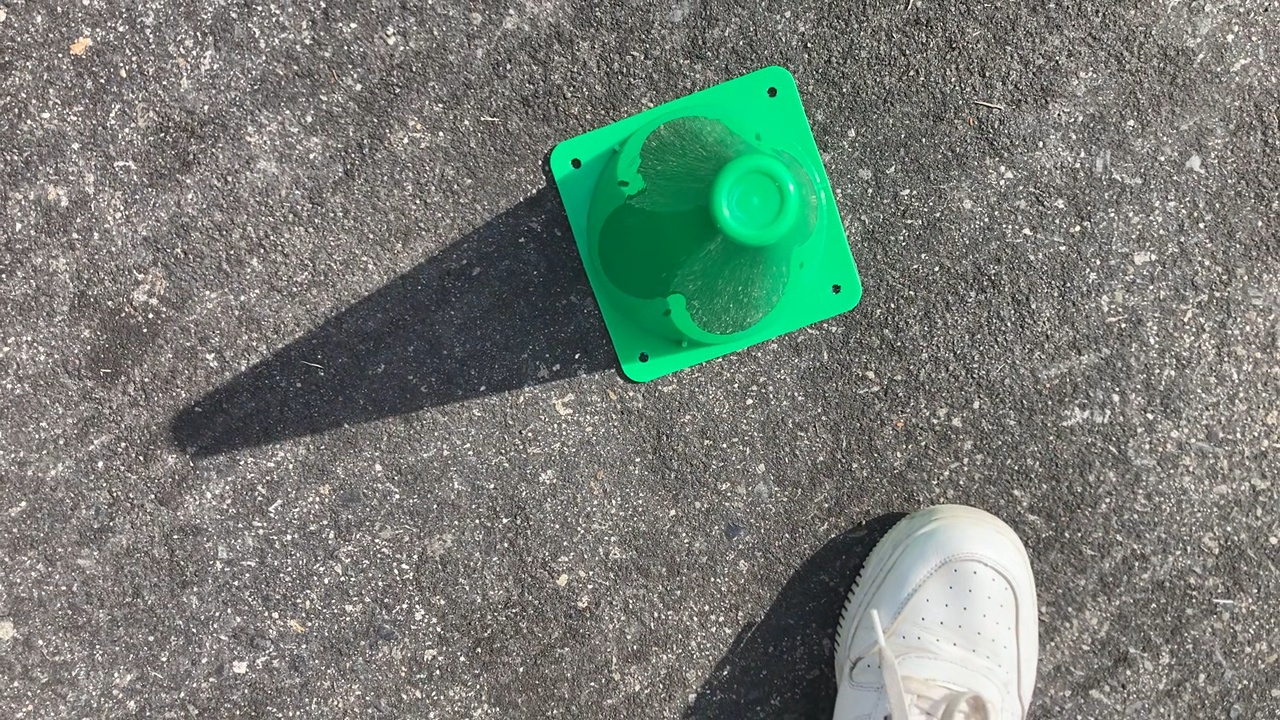green_cone: (540, 61, 868, 387)
